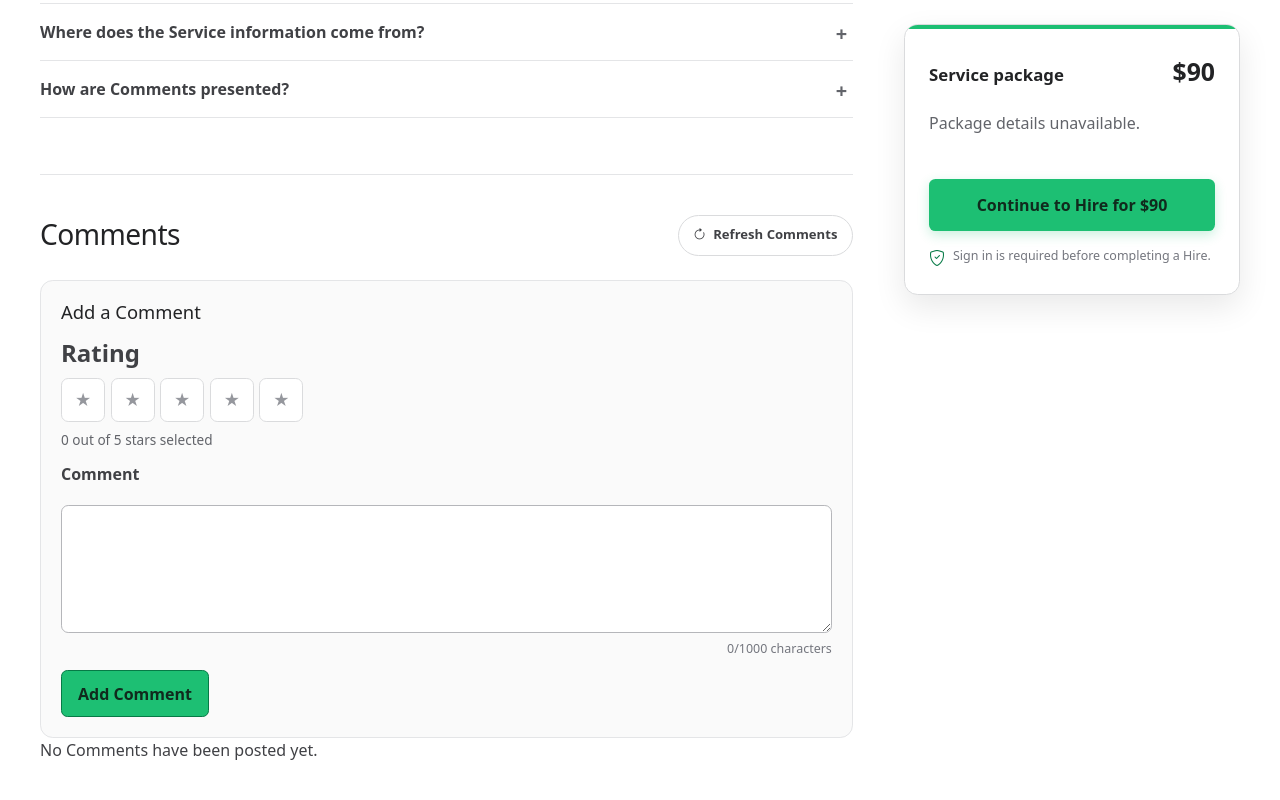
routed Service Detail › preserves the Comment draft after a recoverable submission failure
This screenshot has width=1280, height=800.
(page scrolled)
Click the radio button named "4 stars" at (232, 400), box top-left (210, 378), bottom-right (254, 422)
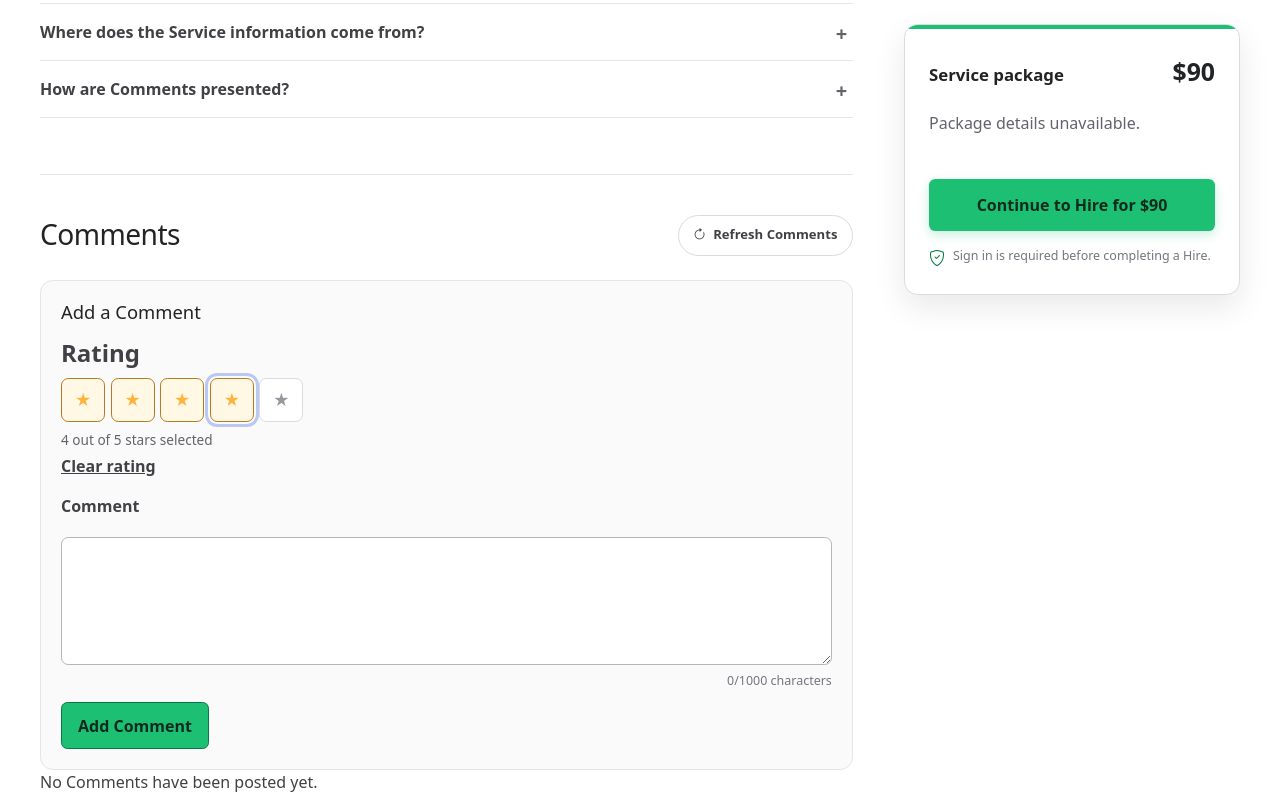
Type "Please keep this draft." into the text box labelled "Comment" at (446, 601), box top-left (61, 537), bottom-right (832, 665)
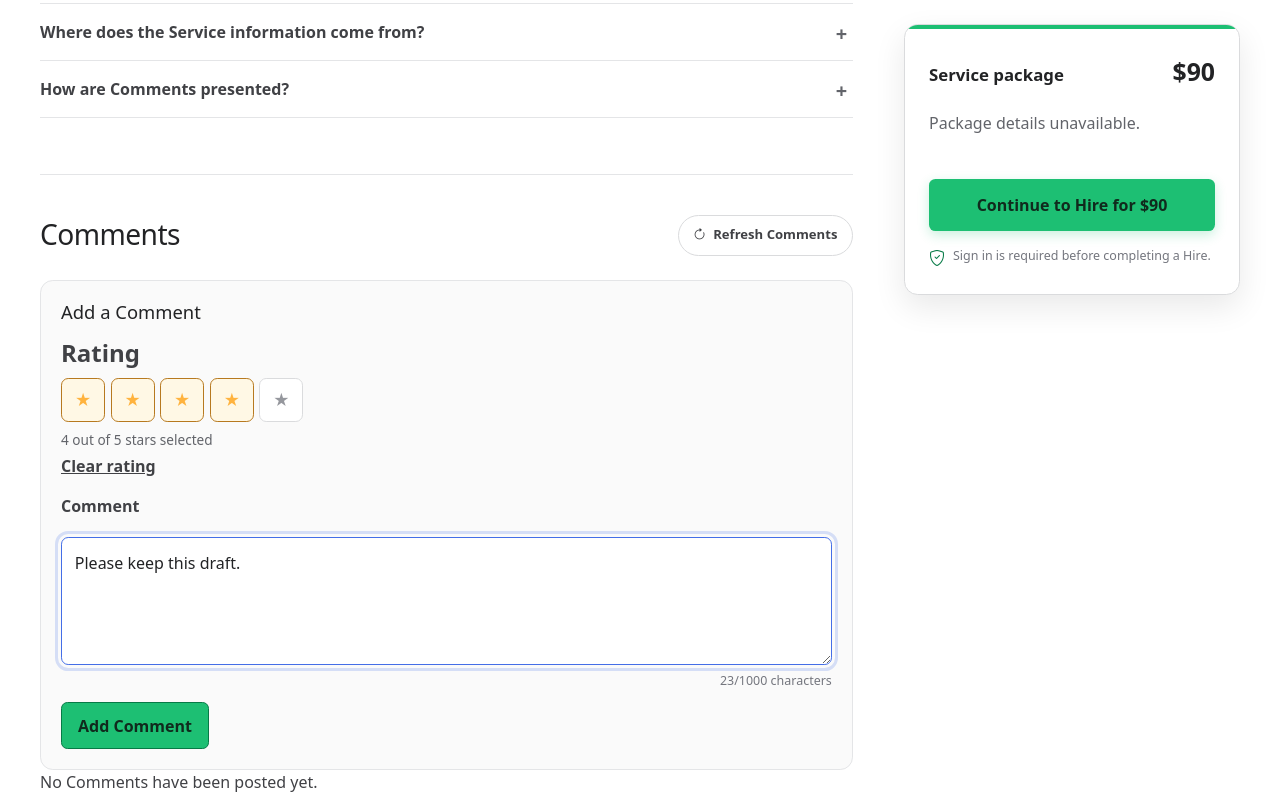
Click the button "Add Comment" at (135, 726), box top-left (61, 702), bottom-right (209, 749)
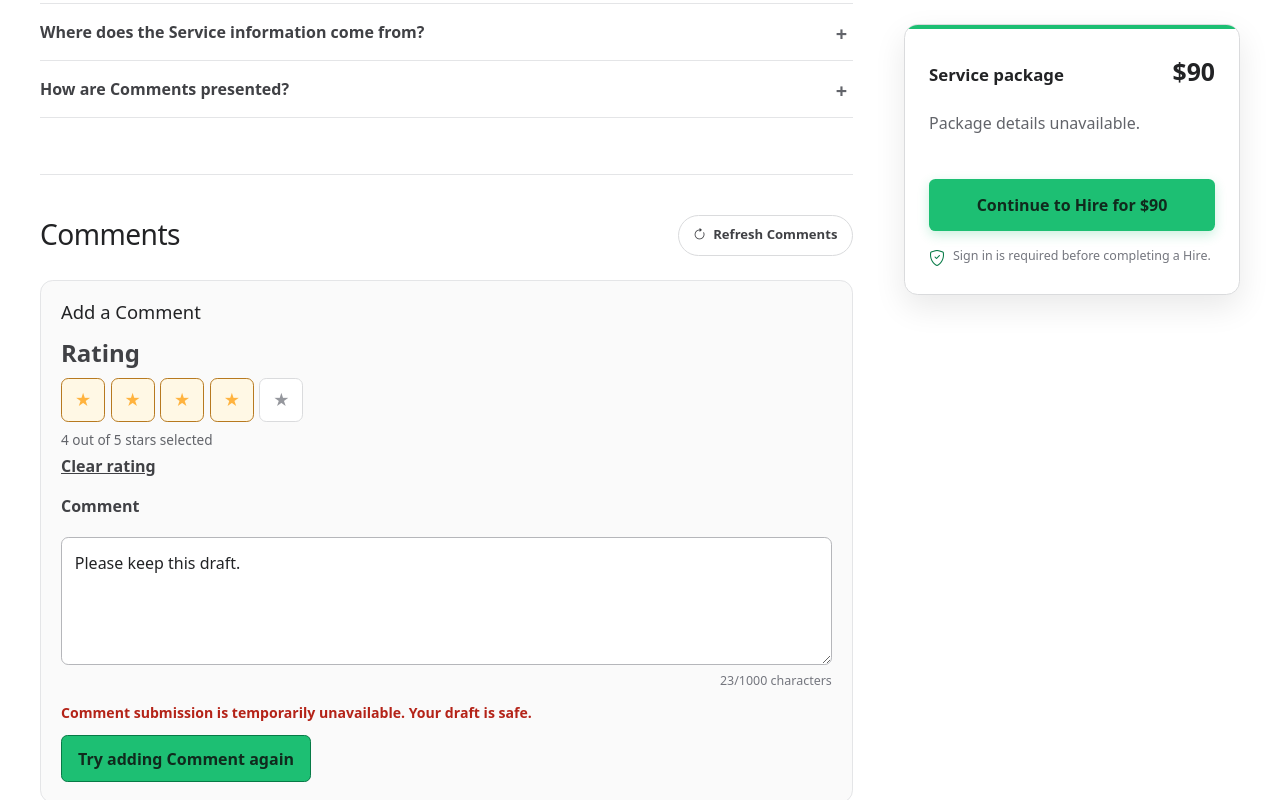
Check: the button "Try adding Comment again" is enabled, box top-left (61, 735), bottom-right (311, 782)
Check: the radio button named "4 stars" is checked, box top-left (210, 378), bottom-right (254, 422)
Check: the message reads "Comment submission is temporarily unavailable. Your draft is safe.", box top-left (61, 703), bottom-right (532, 722)
